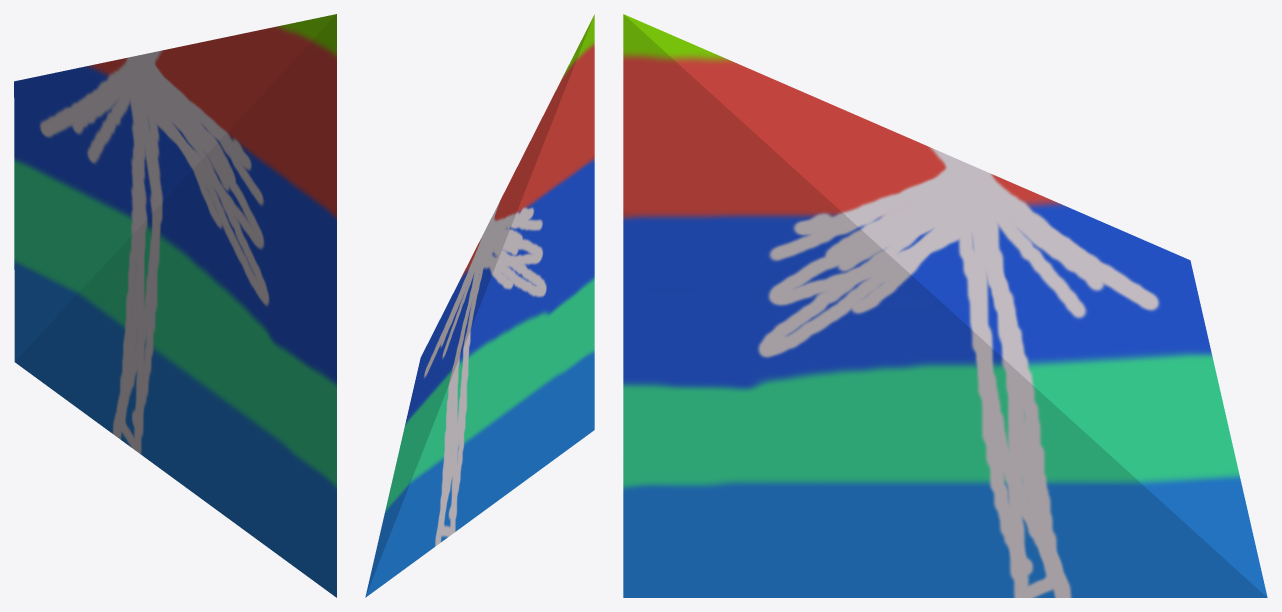
3 views of the same model, side by side, from view 1: azimuth 30°, elevation 25°; view 2: azimuth 150°, elevation 25°; view 3: azimuth 270°, elevation 25° (orthographic). The views are drawn at different scales.
Visible parts, largest first — view 1: Plane; view 2: Plane; view 3: Plane.
Boxes of the visible parts, box(x1,y1,x2,y2) form: Plane: box(14, 14, 336, 597); Plane: box(365, 14, 594, 597); Plane: box(623, 14, 1267, 597).
Bounding box in the file's own units: 0.1403 × 2 × 2.
1 material, 1 textured.
